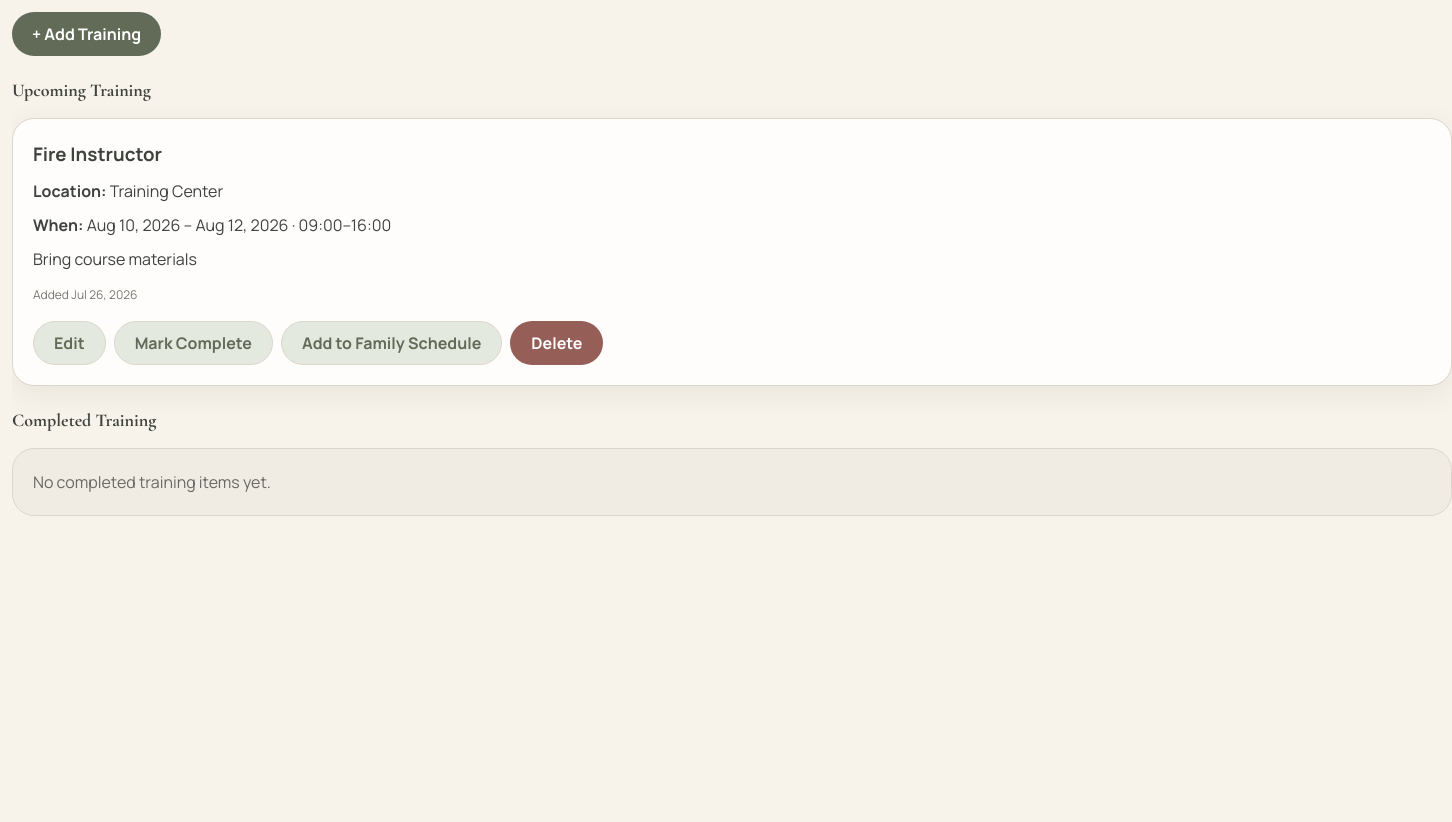
it: personalized planner UI › shows an exact schedule proposal only after an explicit action
expect the text "Review before adding" is not shown: met
Step 1. Click the button "Add to Family Schedule" → click(392, 343), box [281,320,502,365]
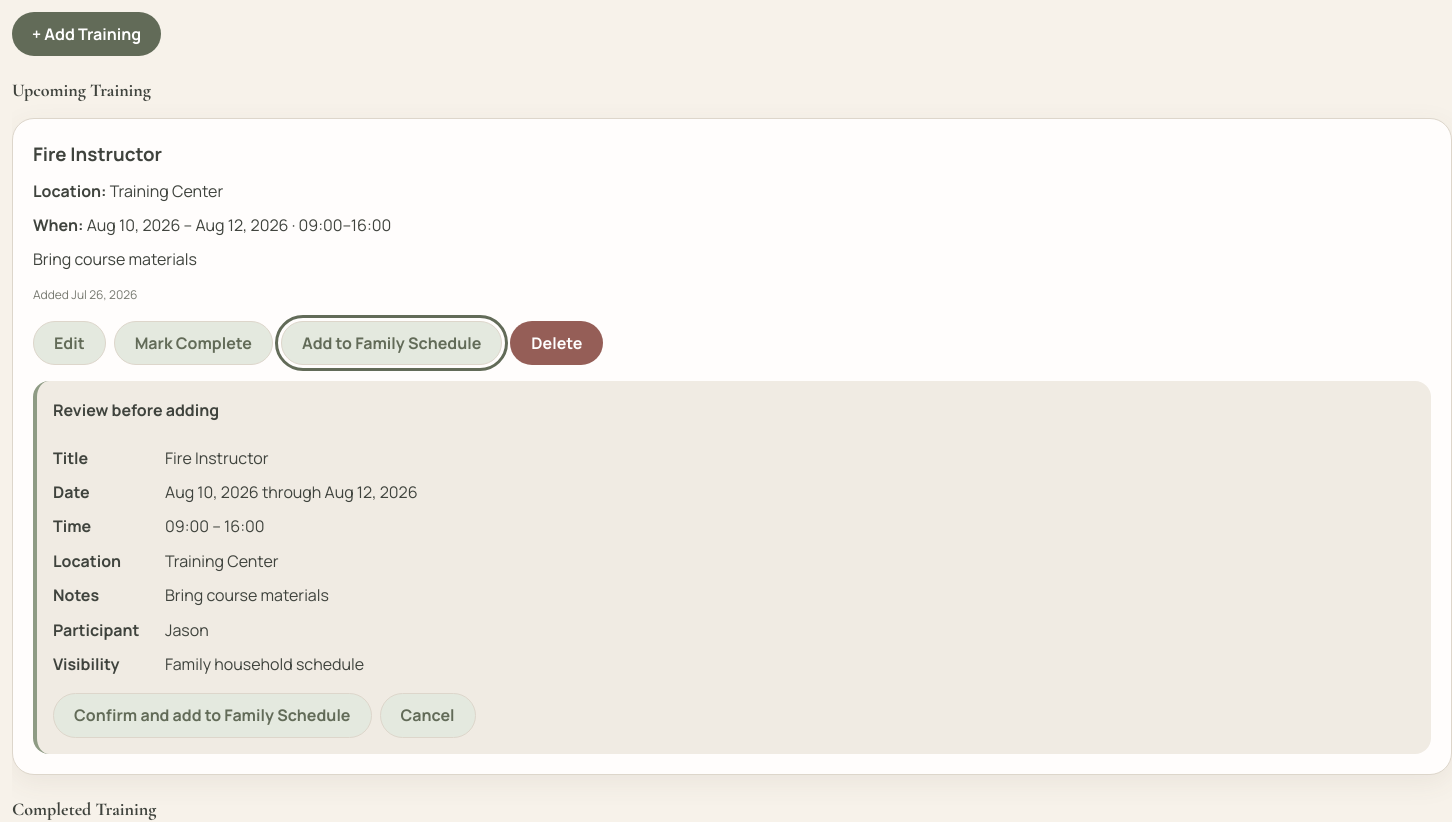
expect the heading "Review before adding" is shown: met, box [53,399,219,421]
expect the text "Aug 10, 2026 through Aug 12, 2026" is shown: met, box [165,481,418,503]
expect the button "Confirm and add to Family Schedule" is shown: met, box [53,693,372,738]
